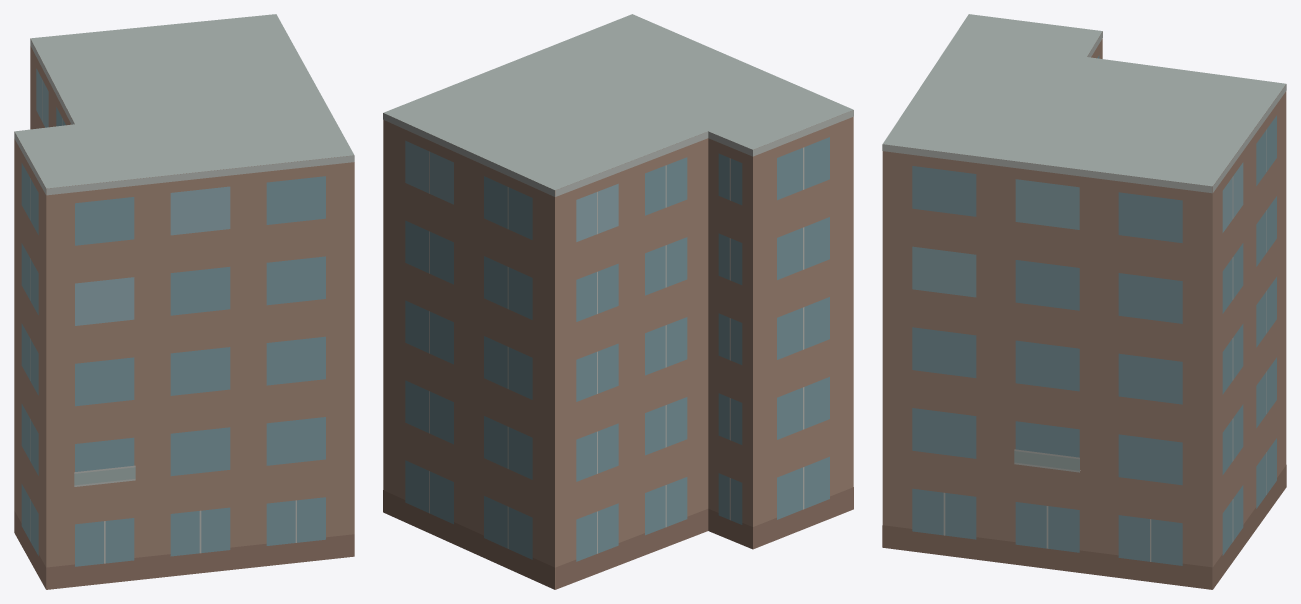
The model's file is survey-upis-32880264.glb.
3 renders of one model, left to right at view 1: azimuth 30°, elevation 25°; view 2: azimuth 150°, elevation 25°; view 3: azimuth 270°, elevation 25°, orthographic.
Parts seen in each view (by area): view 1: survey-upis-32880264.tmp; view 2: survey-upis-32880264.tmp; view 3: survey-upis-32880264.tmp.
Part boxes in pixels (x1,y1,x2,y2): survey-upis-32880264.tmp: (14, 14, 354, 589); survey-upis-32880264.tmp: (383, 14, 853, 589); survey-upis-32880264.tmp: (882, 14, 1286, 589).
Size of the model in its own units: 13.12 by 14.3 by 12.99.
